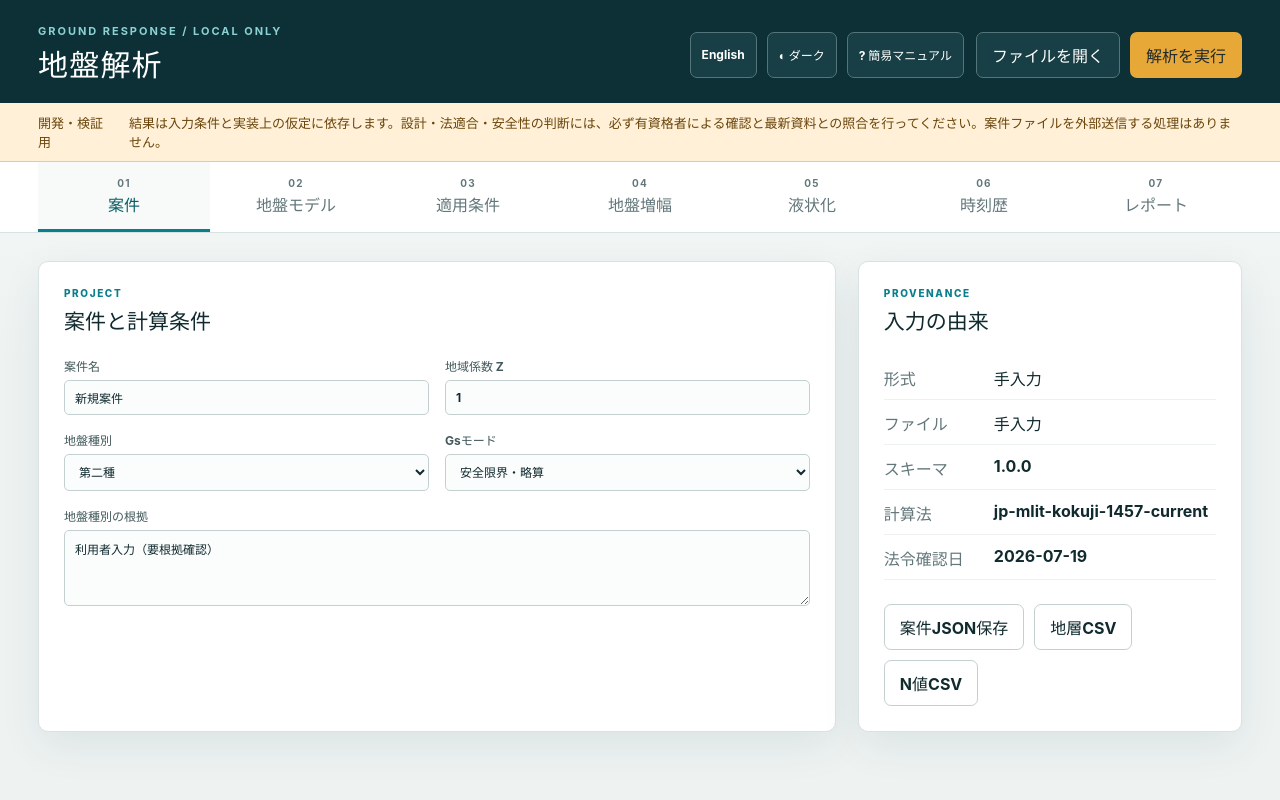
Test: App analysis result lifecycle › 利用者による解析取消をエラーではなく情報として表示する
What coordinates should you click on to do the following:
click the button "解析を実行"
I would click on:
 (1186, 54)
Its box is 1130,32 -> 1242,78.
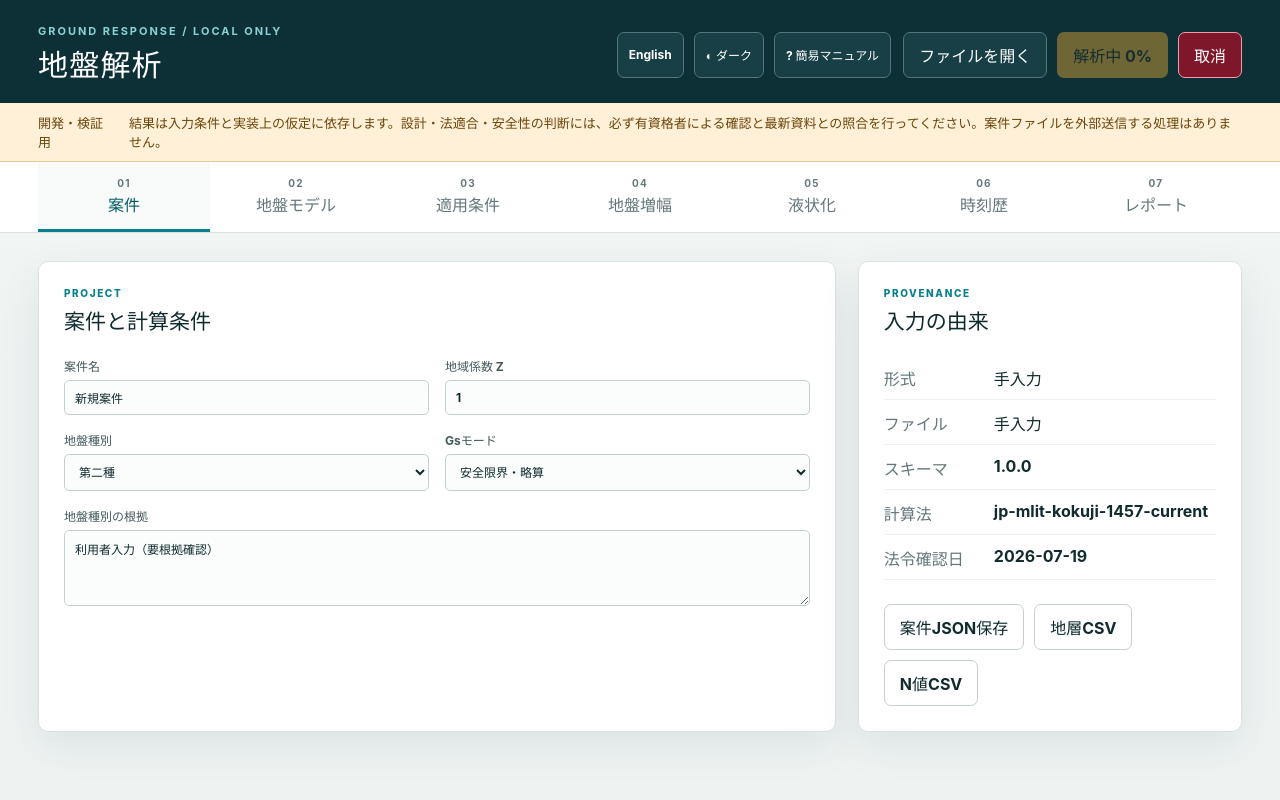
What coordinates should you click on to do the following:
click the button "取消"
I would click on:
 (1210, 54)
Its box is 1178,32 -> 1242,78.
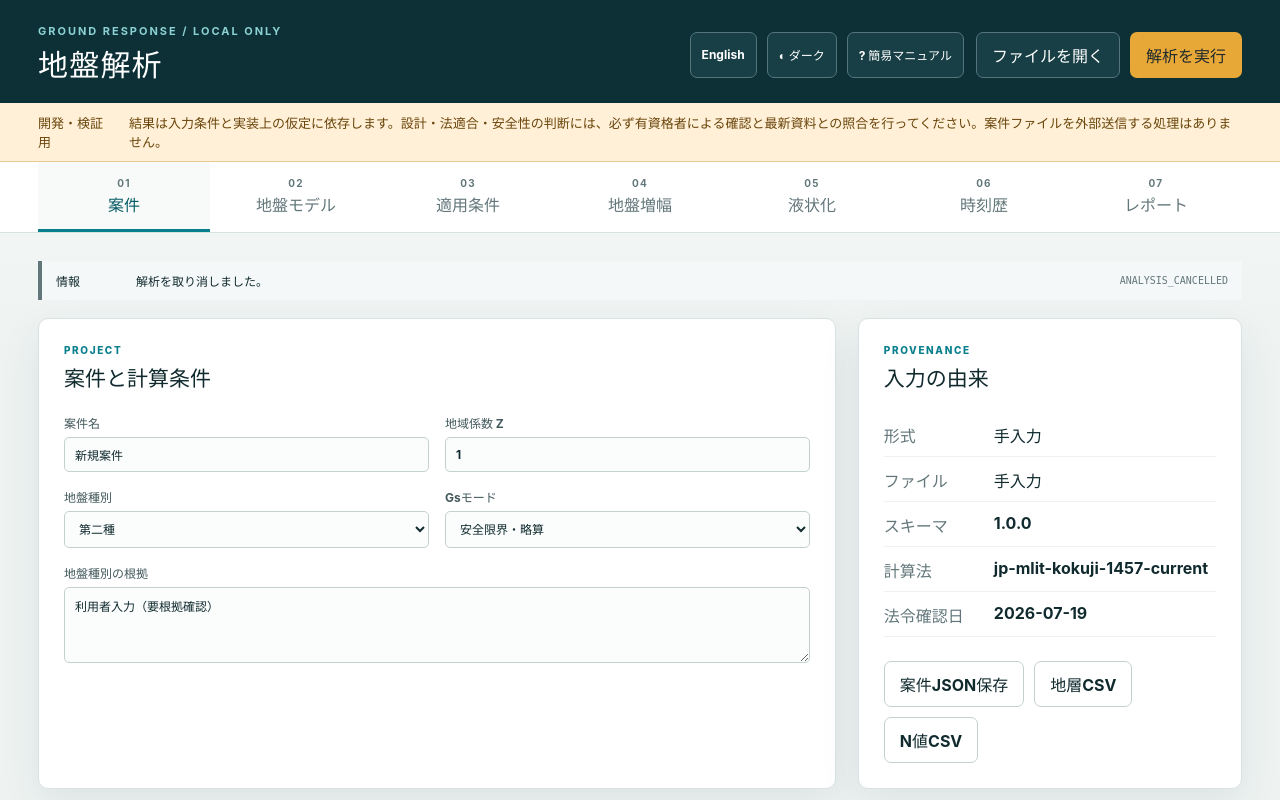
Now the text "ANALYSIS_CANCELLED" is shown, box 1120,275 -> 1228,286
Now the text "解析を取り消しました。" is shown, box 136,274 -> 268,289
